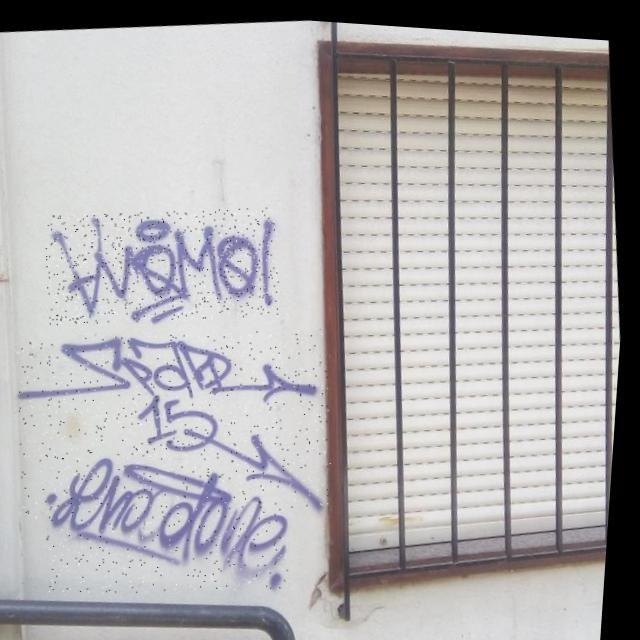-: (11, 307, 348, 534), (43, 434, 304, 608), (42, 190, 290, 336), (0, 40, 11, 208), (0, 289, 14, 410)
